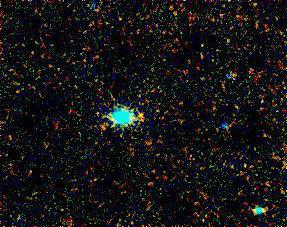star: (124, 103, 154, 133)
